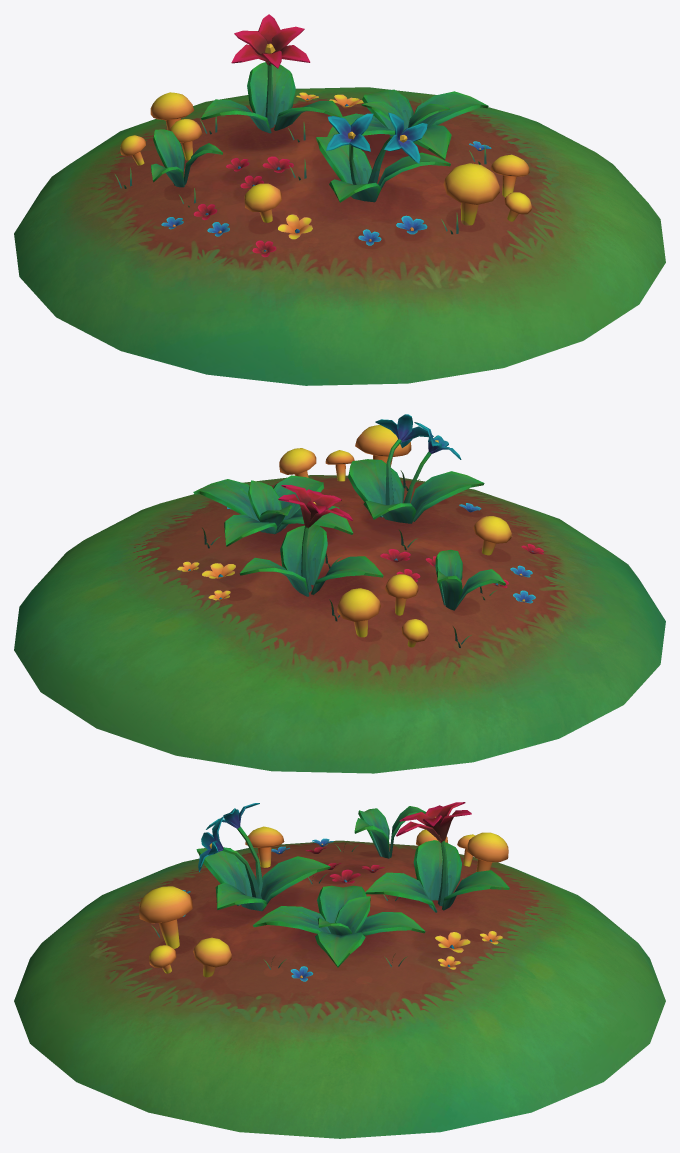
File: flowers.fbx
3 views of the same model, one above another, from view 1: azimuth 30°, elevation 25°; view 2: azimuth 150°, elevation 25°; view 3: azimuth 270°, elevation 25° (orthographic).
Parts seen in each view (by area): view 1: ground, pSphere3 (×5), pCube5 (×3), pCube7 (×2), pCube6 (×2), pCube3, pCube4, pCube2; view 2: ground, pCube6 (×4), pSphere3 (×5), pCube7 (×3), pCube5 (×3), pCube3, pCube4, pCube2, pCube1; view 3: ground, pSphere3 (×5), pCube7 (×3), pCube5 (×3), pCube6 (×3), pCube2, pCube1, pCube4, pCube3.
Boxes of the visible parts, <box> form: ground: <box>14,87,665,385</box>; pSphere3 (×5): <box>150,92,529,211</box>; pCube5 (×3): <box>153,62,372,185</box>; pCube7 (×2): <box>201,99,381,202</box>; pCube6 (×2): <box>274,100,450,189</box>; pCube3: <box>414,91,488,126</box>; pCube4: <box>362,89,413,130</box>; pCube2: <box>401,124,451,160</box>; ground: <box>14,475,665,773</box>; pCube6 (×4): <box>248,459,462,605</box>; pSphere3 (×5): <box>279,425,511,621</box>; pCube7 (×3): <box>311,471,505,608</box>; pCube5 (×3): <box>239,501,462,610</box>; pCube3: <box>193,479,264,532</box>; pCube4: <box>224,514,277,546</box>; pCube2: <box>273,475,323,528</box>; pCube1: <box>274,506,353,534</box>; ground: <box>14,840,665,1138</box>; pSphere3 (×5): <box>139,826,508,967</box>; pCube7 (×3): <box>196,808,461,905</box>; pCube5 (×3): <box>261,856,509,933</box>; pCube6 (×3): <box>215,818,437,912</box>; pCube2: <box>253,906,330,933</box>; pCube1: <box>317,885,366,922</box>; pCube4: <box>357,912,425,935</box>; pCube3: <box>315,931,365,967</box>.
Size of the model in its own units: 14.11 by 4.43 by 14.11.
